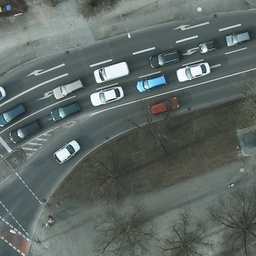car: (9, 118, 43, 145), (177, 60, 211, 84), (147, 47, 180, 70), (145, 95, 181, 116), (47, 102, 81, 123), (53, 138, 80, 164), (51, 78, 84, 99), (0, 105, 29, 128), (135, 73, 168, 92), (91, 89, 126, 105), (224, 31, 253, 47), (197, 38, 216, 57), (0, 83, 5, 111)
van: (92, 61, 130, 85)
